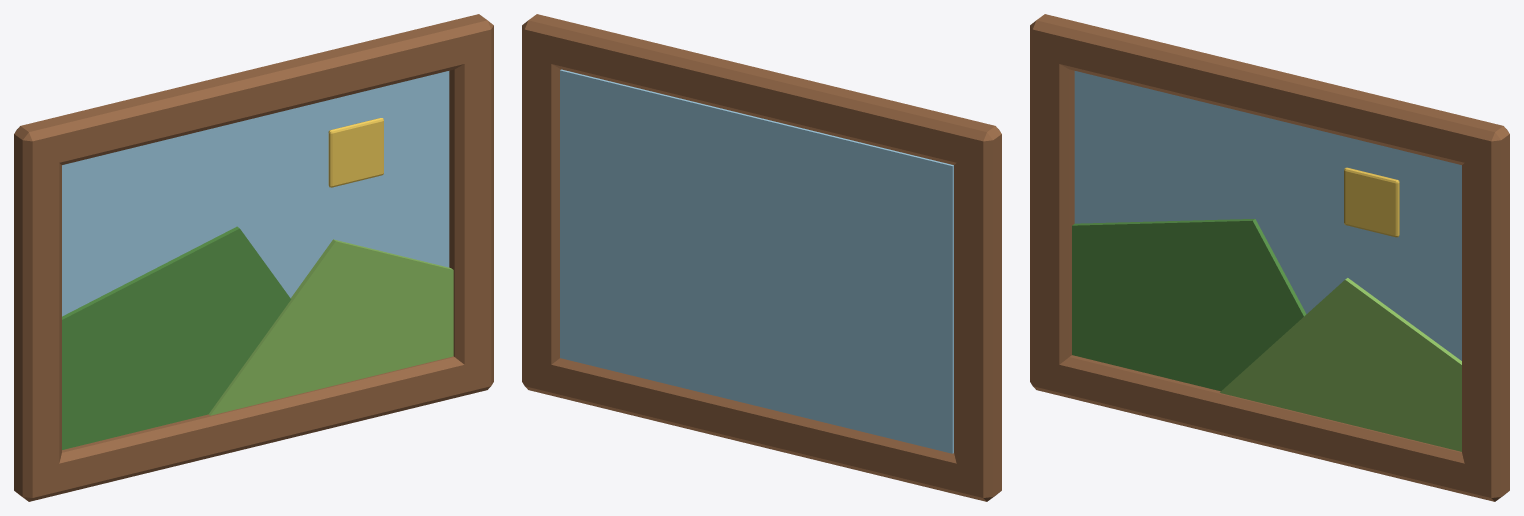
The model's file is picture_frame.glb.
The picture shows the model from 3 angles, left to right: view 1: azimuth 30°, elevation 25°; view 2: azimuth 150°, elevation 25°; view 3: azimuth 330°, elevation 25°; orthographic projection.
Visible parts, largest first — view 1: picture_frame; view 2: picture_frame; view 3: picture_frame.
Part boxes in pixels (bbox=[...]): picture_frame: bbox=[14, 14, 493, 501]; picture_frame: bbox=[522, 14, 1001, 501]; picture_frame: bbox=[1030, 14, 1509, 501].
Size of the model in its own units: 0.6 by 0.45 by 0.035.
1 material, 1 textured.
